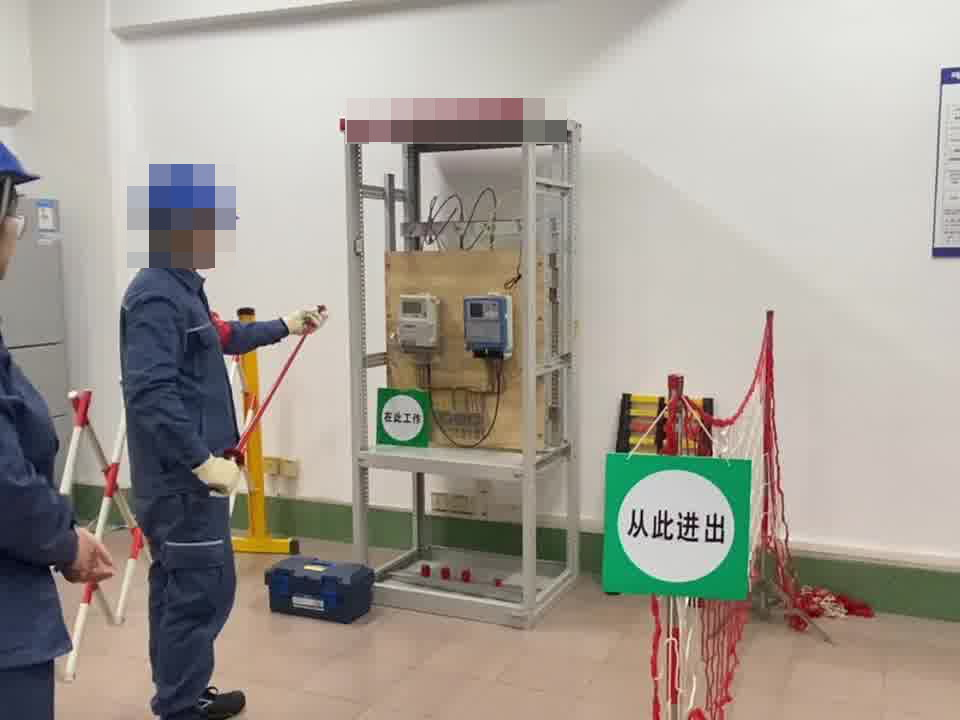badge: (205, 303, 231, 346)
downsuit: (138, 496, 238, 717)
halt: (138, 165, 237, 272), (1, 147, 38, 285)
hand: (67, 526, 111, 581)
inear: (173, 210, 217, 265)
intosign: (603, 454, 746, 599)
person: (115, 160, 301, 720), (1, 117, 105, 720)
testrod: (232, 308, 327, 455)
upsuit: (121, 262, 291, 483), (1, 334, 73, 661)
wglove: (194, 456, 240, 493), (283, 306, 326, 335)
worksign: (376, 388, 428, 446)
